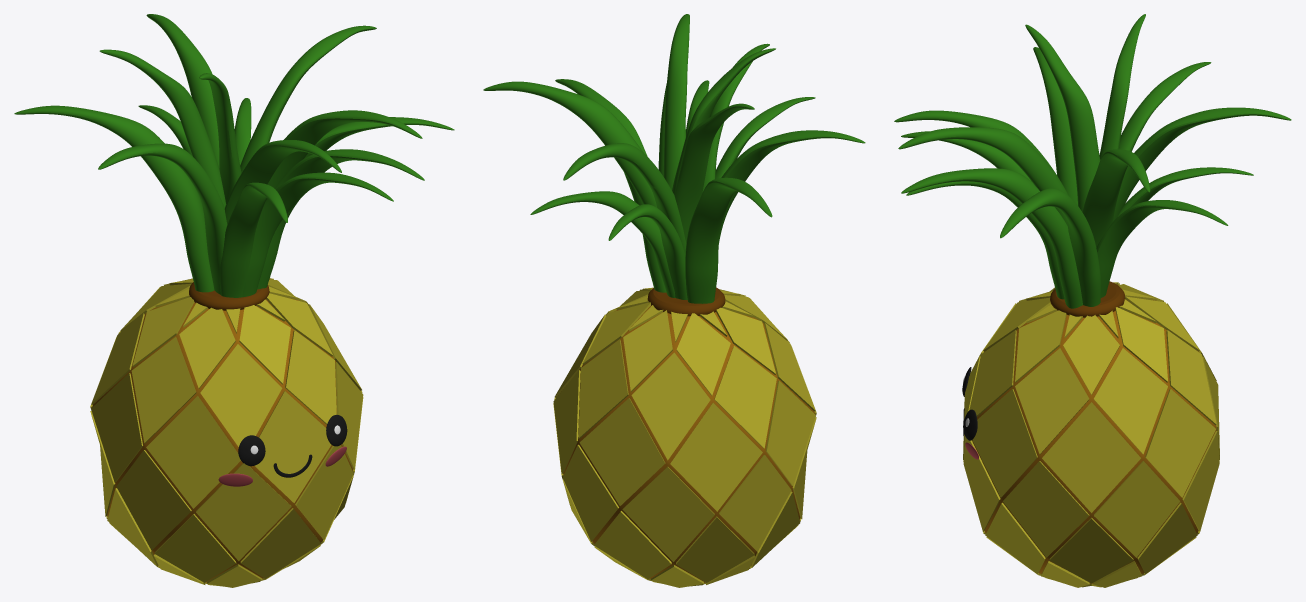
Rendered from pineapple-BLXte1Jv.glb.
3 renders of one model, left to right at view 1: azimuth 30°, elevation 25°; view 2: azimuth 150°, elevation 25°; view 3: azimuth 270°, elevation 25°, orthographic. The views are drawn at different scales.
Visible parts, largest first — view 1: Sphere_0, Plane.014_1, Sphere.002_3, Cylinder_2, Sphere.001_5; view 2: Sphere_0, Plane.014_1, Cylinder_2; view 3: Sphere_0, Plane.014_1, Cylinder_2.
Part boxes in pixels (left/top/right/bottom): Sphere_0: left=90, top=278, right=363, bottom=587; Plane.014_1: left=14, top=14, right=454, bottom=297; Sphere.002_3: left=238, top=414, right=347, bottom=466; Cylinder_2: left=189, top=282, right=269, bottom=310; Sphere.001_5: left=218, top=446, right=346, bottom=486; Sphere_0: left=553, top=287, right=816, bottom=587; Plane.014_1: left=483, top=14, right=865, bottom=303; Cylinder_2: left=647, top=287, right=725, bottom=316; Sphere_0: left=963, top=282, right=1219, bottom=587; Plane.014_1: left=894, top=14, right=1291, bottom=308; Cylinder_2: left=1050, top=281, right=1125, bottom=317.
Bounding box in the file's own units: 8.93 × 13.6 × 9.31.
